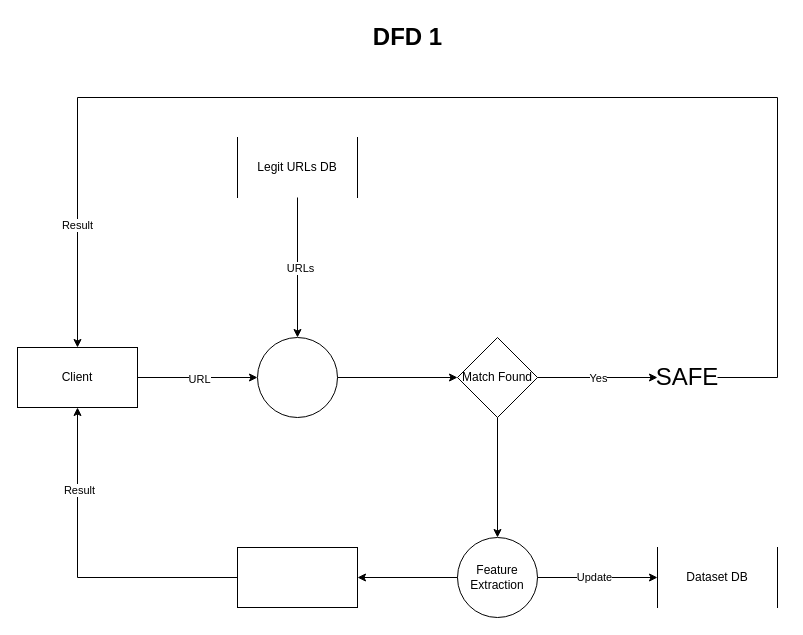
Some shapes in this 803 by 635 pixel diagram are drawn without their labels. Here are the shapes that lost their labels. From the top down, the centre of each, then its label:
[297,377]: Similarity Index Calculation
[297,577]: ML Model
